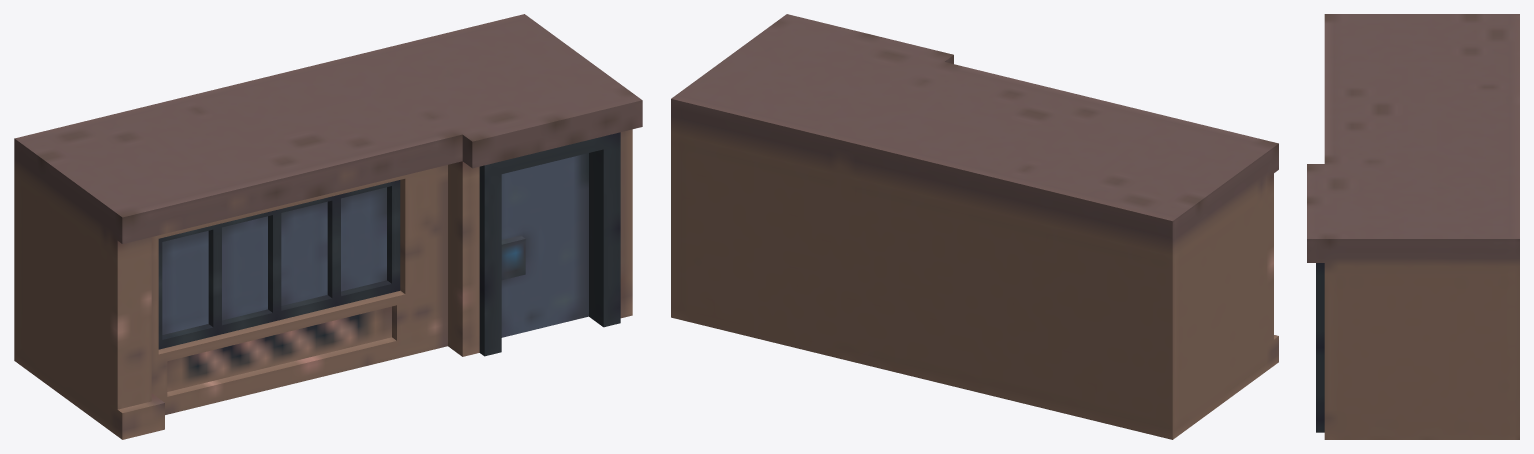
File: BuildingBlock_1.glb
3 renders of one model, left to right at view 1: azimuth 30°, elevation 25°; view 2: azimuth 150°, elevation 25°; view 3: azimuth 270°, elevation 25°, orthographic. The views are drawn at different scales.
Parts seen in each view (by area): view 1: BuildingBlock_1; view 2: BuildingBlock_1; view 3: BuildingBlock_1.
Boxes of the visible parts, x1=… form: BuildingBlock_1: x1=14, y1=14, x2=642, y2=439; BuildingBlock_1: x1=671, y1=14, x2=1278, y2=439; BuildingBlock_1: x1=1307, y1=14, x2=1519, y2=439.
Size of the model in its own units: 6 by 2.5 by 2.4.
1 material, 1 textured.
